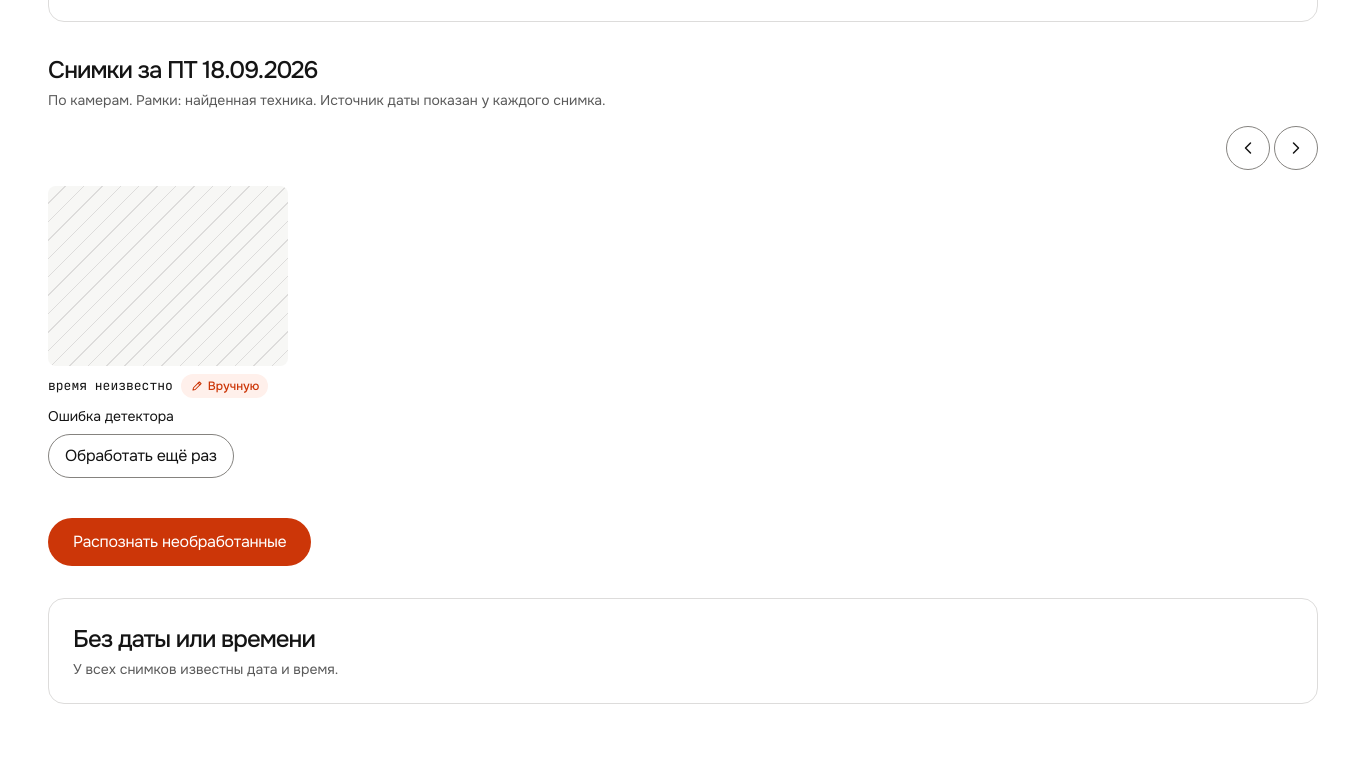
ObservationsPage › reprocesses a photo the detector has not handled
(page scrolled)
Expected: the text "Ошибка детектора" is shown, [48,406,174,426]
Expected: the text "Вручную" is shown, [181,374,268,398]
Click the button "Обработать ещё раз" at point(141, 456), box [48,434,234,478]
(page scrolled)
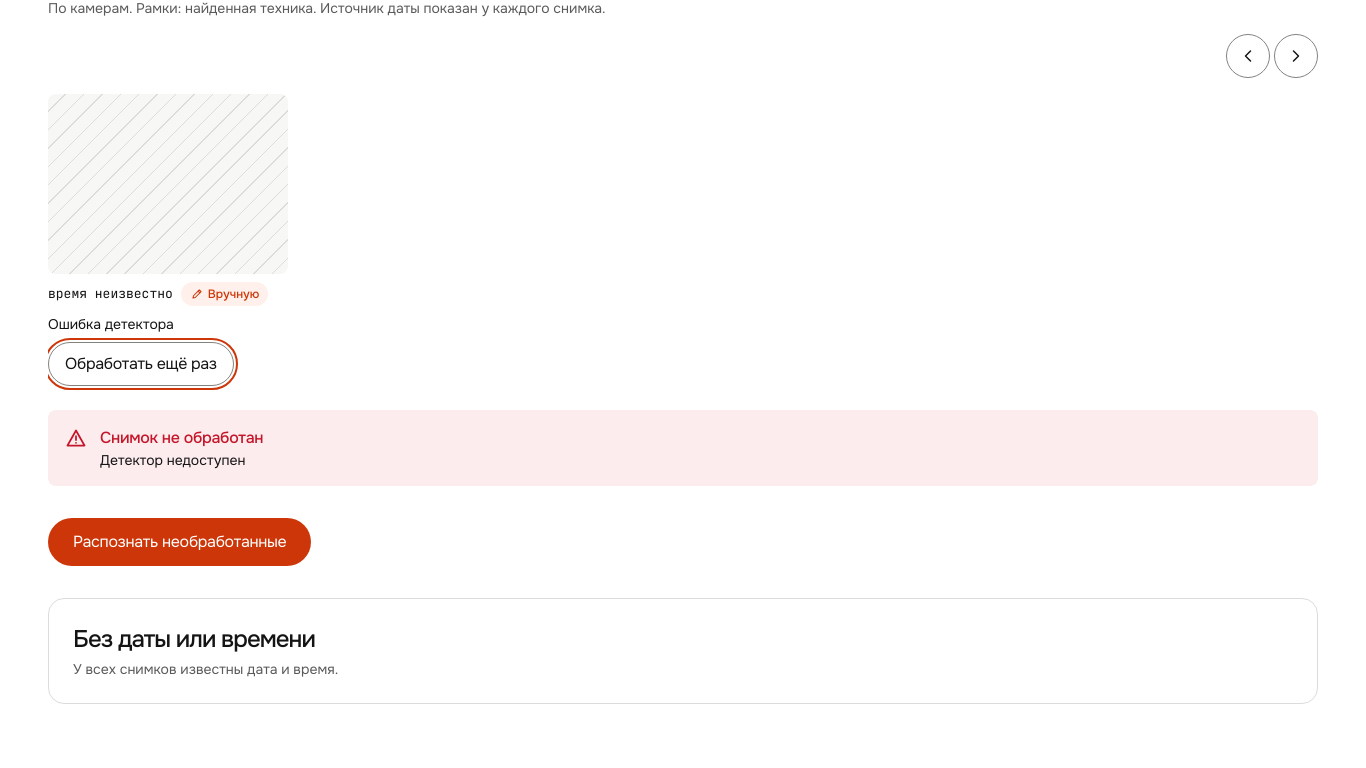
Expected: the text "У всех снимков известны дата и время." is shown, [73,660,338,678]
Expected: the text "Детектор недоступен" is shown, [100,451,245,469]
